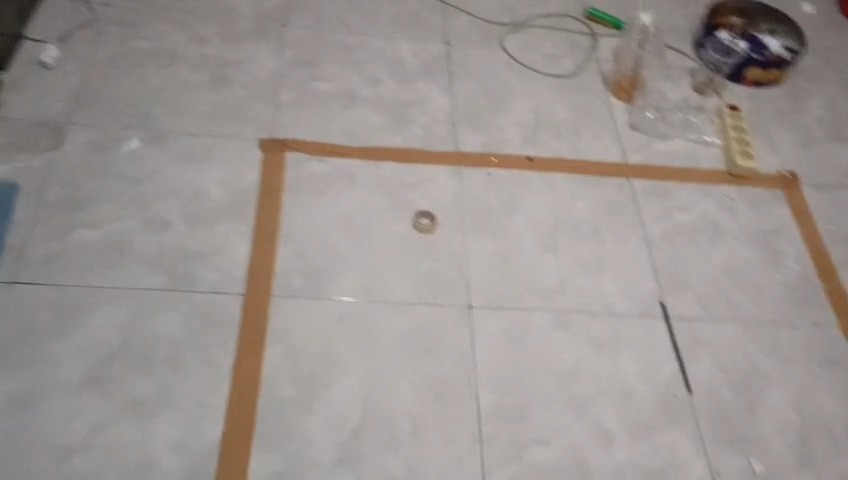floor marking: (216, 139, 847, 479)
